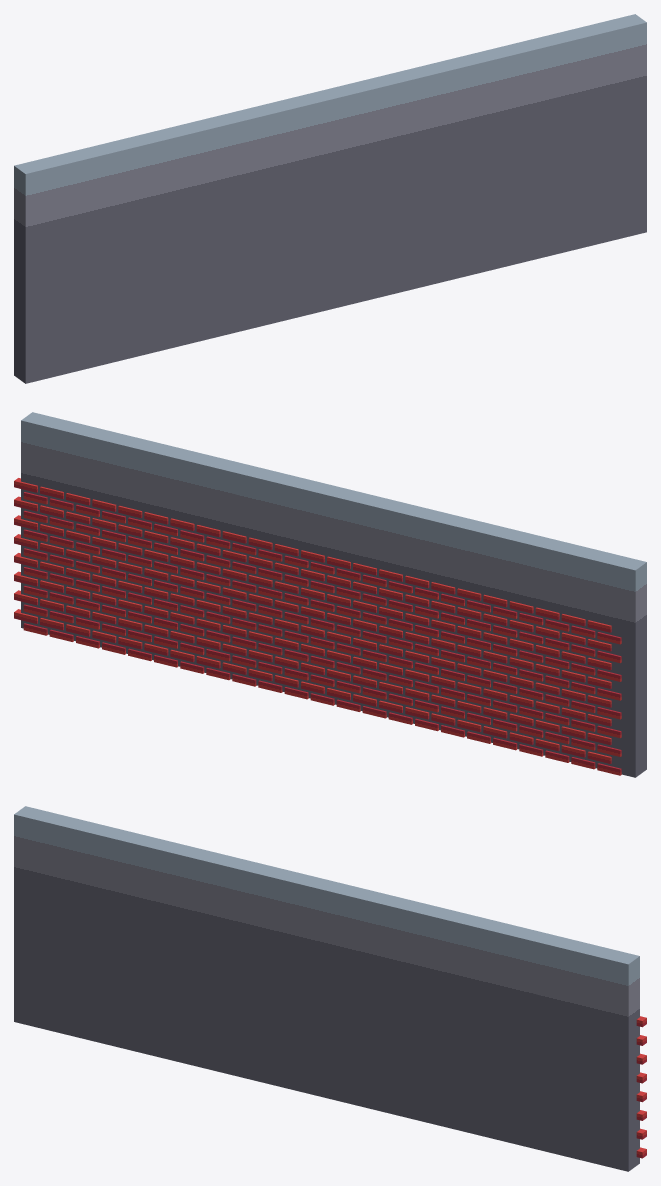
Rendered from pared_2.fbx.
The picture shows the model from 3 angles, top to bottom: view 1: azimuth 30°, elevation 25°; view 2: azimuth 150°, elevation 25°; view 3: azimuth 330°, elevation 25°; orthographic projection.
Parts seen in each view (by area): view 1: pared_2; view 2: pared_2, Cube.003; view 3: pared_2, Cube.003.
Boxes of the visible parts, bbox=[...] form: pared_2: bbox=[14, 14, 646, 383]; pared_2: bbox=[21, 412, 646, 777]; Cube.003: bbox=[14, 478, 621, 775]; pared_2: bbox=[14, 806, 639, 1171]; Cube.003: bbox=[636, 1016, 646, 1158].
Bounding box in the file's own units: 1565 × 501 × 54.9.
